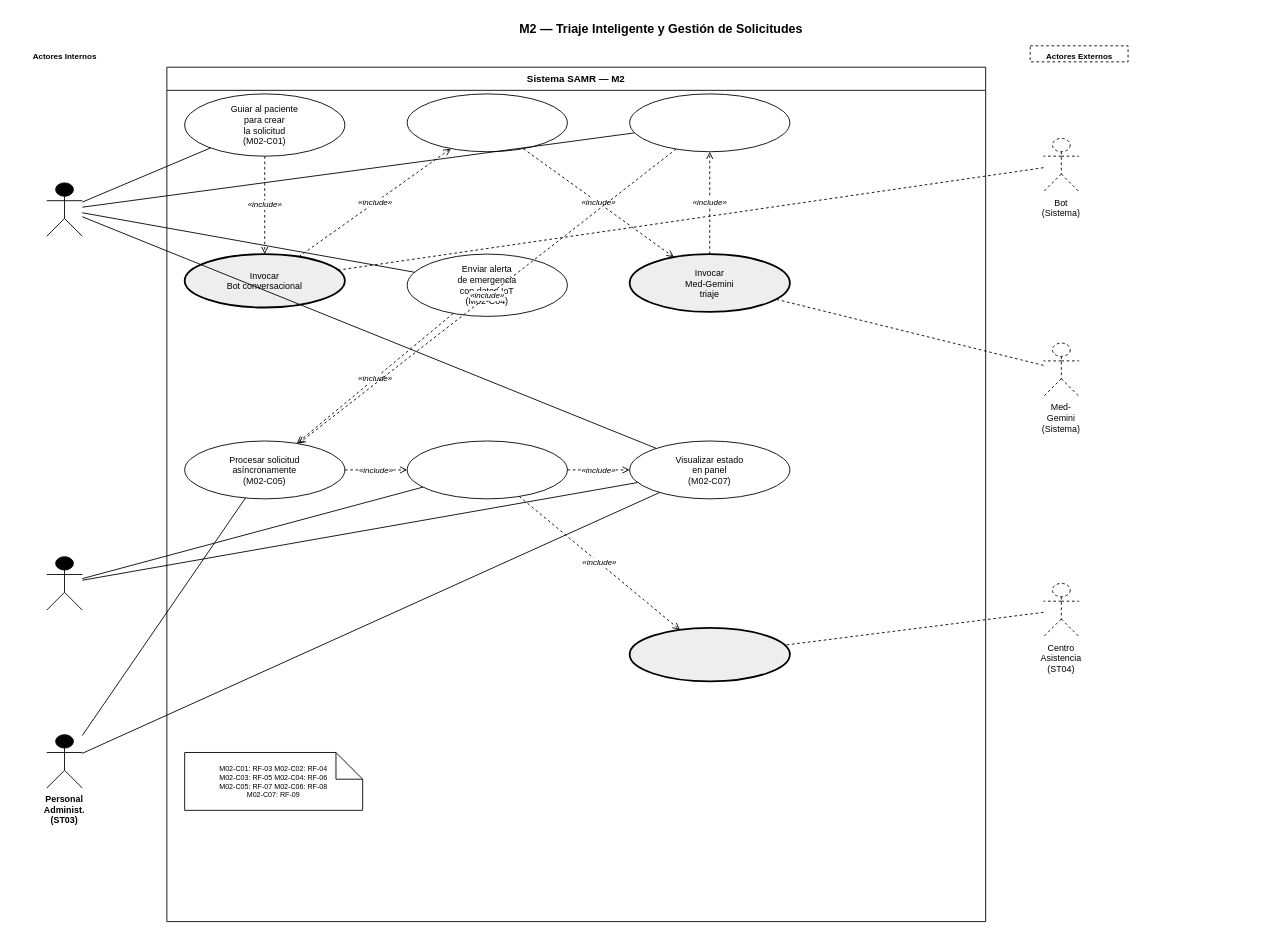
Some shapes in this 1276 by 937 pixel diagram are drawn without their labels. The shapes that lost their labels are listed below. From the top down, each one's box as (x1, y1, x2, y2) in pixels, then its label:
(406, 93, 567, 152): Clasificar riesgo con triaje clínico (M02-C02)
(629, 93, 790, 152): Generar solicitud de síntomas (M02-C03)
(46, 182, 82, 236): Paciente (ST01)
(406, 440, 567, 499): Ejecutar matching inteligente (M02-C06)
(46, 556, 82, 610): Personal Médico (ST02)
(628, 627, 790, 682): Notificar Centro Asistencia
